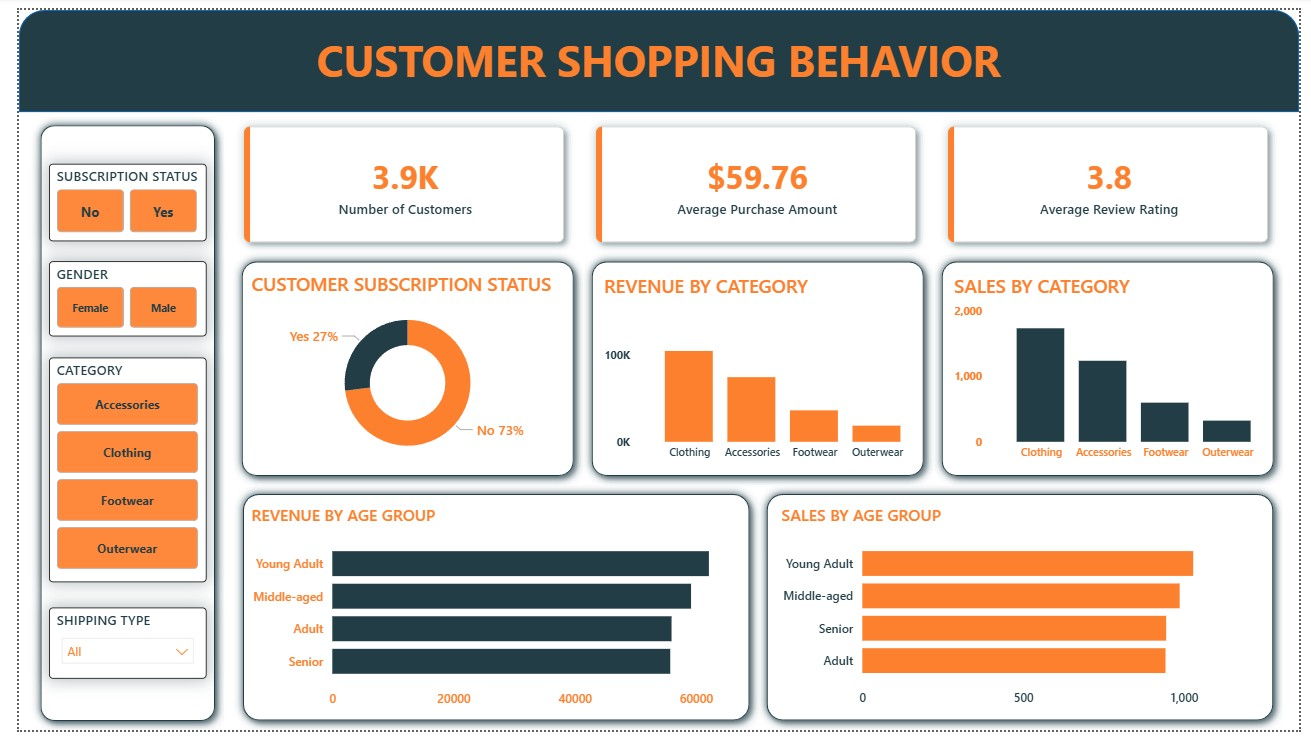

The page's visual inventory and layout, read from the dashboard file:
{"tool":"powerbi","page":{"name":"Page 1","canvas":[1280,720],"ordinal":0},"visuals":[{"type":"cardVisual","fields":{"Data":["public customer.Number of Customers","public customer.Average Purchase Amount","public customer.Average Review Rating"]},"box":[195.7,87.1,1084.3,174.3],"z":0},{"type":"shape","box":[0,0,1280,102.2],"z":1000},{"type":"textbox","box":[261.1,16.7,756.7,70],"z":2000},{"type":"shape","box":[213.8,242.5,350,232.5],"z":3000},{"type":"donutChart","title":"CUSTOMER SUBSCRIPTION STATUS","fields":{"Y":["CountNonNull(public customer.customer_id)"],"Category":["public customer.subscription_status"]},"box":[227.5,261.2,322.5,198.8],"z":4000},{"type":"shape","box":[913.8,242.5,350,232.5],"z":5000},{"type":"shape","box":[563.8,242.5,350,232.5],"z":6000},{"type":"clusteredColumnChart","title":"REVENUE BY CATEGORY","fields":{"Y":["Sum(public customer.purchase_amount)"],"Category":["public customer.category"]},"box":[580,262.5,333.8,197.5],"z":7000},{"type":"clusteredColumnChart","title":"SALES BY CATEGORY","fields":{"Category":["public customer.category"],"Y":["CountNonNull(public customer.customer_id)"]},"box":[930,262.5,333.8,197.5],"z":8000},{"type":"shape","box":[12.5,106.2,192.5,613.8],"z":9000},{"type":"advancedSlicerVisual","title":"SUBSCRIPTION STATUS","fields":{"Values":["public customer.subscription_status"]},"box":[30,153.8,157.5,77.5],"z":10000},{"type":"advancedSlicerVisual","title":"GENDER","fields":{"Values":["public customer.gender"]},"box":[30,251.2,157.5,75],"z":11000},{"type":"advancedSlicerVisual","title":"CATEGORY","fields":{"Values":["public customer.category"]},"box":[30,347.5,157.5,225],"z":12000},{"type":"slicer","title":"SHIPPING TYPE","fields":{"Values":["public customer.shipping_type"]},"box":[30,597.5,157.5,71.2],"z":12001},{"type":"shape","box":[214.4,475.6,524.4,244.4],"z":12002},{"type":"clusteredBarChart","title":"REVENUE BY AGE GROUP","fields":{"Y":["Sum(public customer.purchase_amount)"],"Category":["public customer.age_group"]},"box":[227.8,493.3,532.2,213.3],"z":12003},{"type":"shape","box":[738.9,475.6,524.4,244.4],"z":12004},{"type":"clusteredBarChart","title":"SALES BY AGE GROUP","fields":{"Y":["CountNonNull(public customer.customer_id)"],"Category":["public customer.age_group"]},"box":[757.5,493.8,491.2,212.5],"z":12005}]}

Visuals, with their boxes in screenshot pixels (x1, y1, x2, y2), scaled from the page's 1280x720 canvas onto the 1311x745 screenshot:
cardVisual - public customer.Number of Customers x public customer.Average Purchase Amount: (x1=200, y1=90, x2=1310, y2=270)
shape: (x1=0, y1=0, x2=1310, y2=106)
textbox: (x1=267, y1=17, x2=1042, y2=90)
shape: (x1=219, y1=251, x2=577, y2=491)
"CUSTOMER SUBSCRIPTION STATUS" donutChart: (x1=233, y1=270, x2=563, y2=476)
shape: (x1=936, y1=251, x2=1294, y2=491)
shape: (x1=577, y1=251, x2=936, y2=491)
"REVENUE BY CATEGORY" clusteredColumnChart: (x1=594, y1=272, x2=936, y2=476)
"SALES BY CATEGORY" clusteredColumnChart: (x1=953, y1=272, x2=1294, y2=476)
shape: (x1=13, y1=110, x2=210, y2=744)
"SUBSCRIPTION STATUS" advancedSlicerVisual: (x1=31, y1=159, x2=192, y2=239)
"GENDER" advancedSlicerVisual: (x1=31, y1=260, x2=192, y2=338)
"CATEGORY" advancedSlicerVisual: (x1=31, y1=360, x2=192, y2=592)
"SHIPPING TYPE" slicer: (x1=31, y1=618, x2=192, y2=692)
shape: (x1=220, y1=492, x2=757, y2=744)
"REVENUE BY AGE GROUP" clusteredBarChart: (x1=233, y1=510, x2=778, y2=731)
shape: (x1=757, y1=492, x2=1294, y2=744)
"SALES BY AGE GROUP" clusteredBarChart: (x1=776, y1=511, x2=1279, y2=731)
